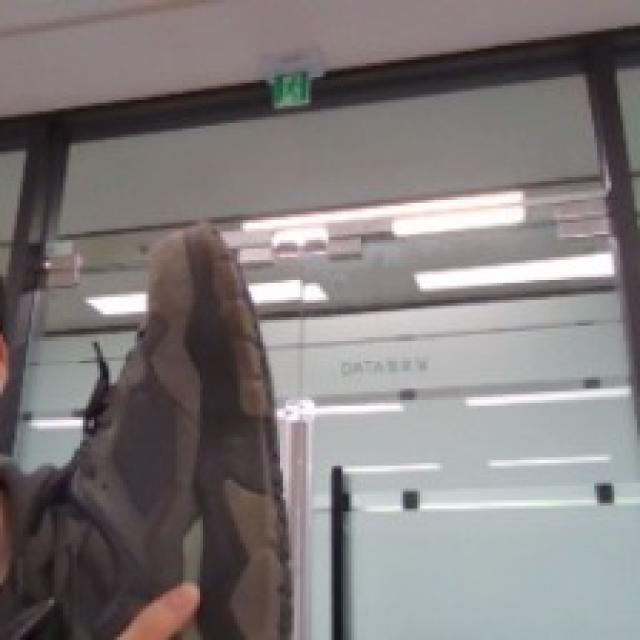shoe: (35, 219, 296, 640)
